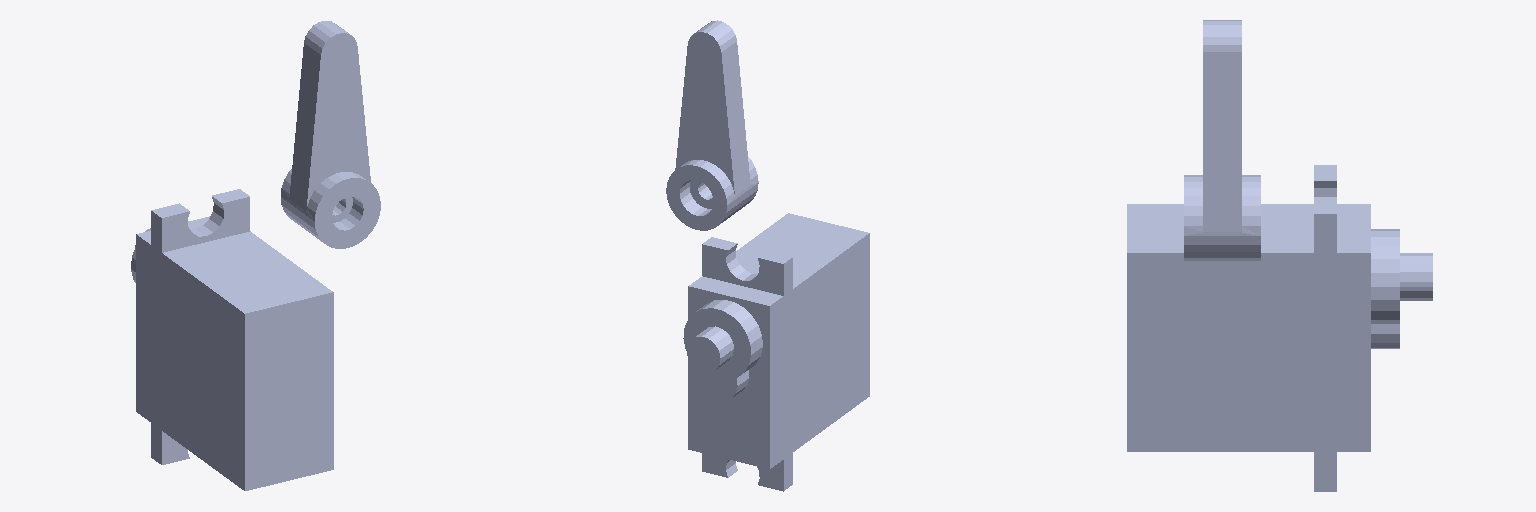
The robot description file, URDF, robot "servo_urdf":
<?xml version="1.0" encoding="utf-8" ?>
<!-- This URDF was automatically created by SolidWorks to URDF Exporter! Originally created by [author] ([email redacted]) 
     Commit Version: 1.6.0-1-g15f4949  Build Version: 1.6.7594.29634
     For more information, please see http://wiki.ros.org/sw_urdf_exporter -->
<robot name="servo_urdf">
    <link name="world" />
    <link name="base_link">
        
<inertial>
            <origin xyz="0.0117358828374191 0.006 0.0136429059031342" rpy="0 0 0" />
            <mass value="0.00758107050268202" />
            <inertia ixx="5.55801688588521E-07" ixy="5.0426940623003E-24" ixz="-2.52048126365935E-08" iyy="8.23810215563623E-07" iyz="2.07012308250836E-23" izz="4.46540635071146E-07" />
        </inertial>

        <visual>
            <origin xyz="0 0 0" rpy="0 0 0" />
            <geometry>
                <mesh filename="package://servo_urdf/meshes/base_link.STL" />
            </geometry>
            <material name="">
                <color rgba="0.792156862745098 0.819607843137255 0.933333333333333 1" />
            </material>
        </visual>
        <collision>
            <origin xyz="0 0 0" rpy="0 0 0" />
            <geometry>
                <mesh filename="package://servo_urdf/meshes/base_link.STL" />
            </geometry>
        </collision>
    </link>
    <joint name="dummy_joint" type="fixed">
        <origin xyz="0 0 0" rpy="0 0 0" />
        <parent link="world" />
        <child link="base_link" />
    </joint>
    <link name="puntero">
        
<inertial>
            <origin xyz="0.00642596924397514 0 0.00396114262857445" rpy="0 0 0" />
            <mass value="0.00088335655680429" />
            <inertia ixx="7.021421250909E-09" ixy="-8.2018563879997E-25" ixz="-2.20570840566851E-10" iyy="4.97349395150619E-08" iyz="-7.13533594824747E-26" izz="5.14715814474346E-08" />
        </inertial>

        <visual>
            <origin xyz="0 0 0" rpy="0 0 0" />
            <geometry>
                <mesh filename="package://servo_urdf/meshes/puntero.STL" />
            </geometry>
            <material name="">
                <color rgba="0.792156862745098 0.819607843137255 0.933333333333333 1" />
            </material>
        </visual>
        <collision>
            <origin xyz="0 0 0" rpy="0 0 0" />
            <geometry>
                <mesh filename="package://servo_urdf/meshes/puntero.STL" />
            </geometry>
        </collision>
    </link>
    <joint name="junta" type="continuous">
        <origin xyz="0.0174058777578102 0.006 0.0295" rpy="0 0 0" />
        <parent link="base_link" />
        <child link="puntero" />
        <axis xyz="0 0 1" />
    </joint>
    
<transmission name="trans_junta">
        <type>transmission_interface/SimpleTransmission</type>
        <joint name="junta">
            <hardwareInterface>hardware_interface/EffortJointInterface</hardwareInterface>
        </joint>
        <actuator name="junta_motor">
            <hardwareInterface>hardware_interface/EffortJointInterface</hardwareInterface>
            <mechanicalReduction>1</mechanicalReduction>
        </actuator>
    </transmission>
    <gazebo>
        <plugin name="gazebo_ros_control" filename="libgazebo_ros_control.so">
            <robotNamespace>/</robotNamespace>
        </plugin>
    </gazebo>
</robot>

--- Facts derived from the render (not from the file) ---
The picture shows the robot from 3 angles, left to right: view 1: azimuth 30°, elevation 25°; view 2: azimuth 150°, elevation 25°; view 3: azimuth 270°, elevation 25°; orthographic projection.
Robot: servo_urdf — 3 links, 2 joints (1 continuous, 1 fixed); root link world; default pose: every joint at zero.
Links seen in each view (by area): view 1: base_link, puntero; view 2: base_link, puntero; view 3: base_link, puntero.
Boxes of the visible links, bbox=[...] form: base_link: bbox=[131, 189, 333, 490]; puntero: bbox=[281, 21, 380, 248]; base_link: bbox=[683, 213, 869, 491]; puntero: bbox=[666, 20, 758, 230]; base_link: bbox=[1127, 165, 1432, 491]; puntero: bbox=[1184, 20, 1260, 260].
Bounding box of the posed robot: 0.0219 × 0.032 × 0.0565 m (x, y, z).
2 mesh visuals loaded from 2 distinct referenced files (2 binary STL).